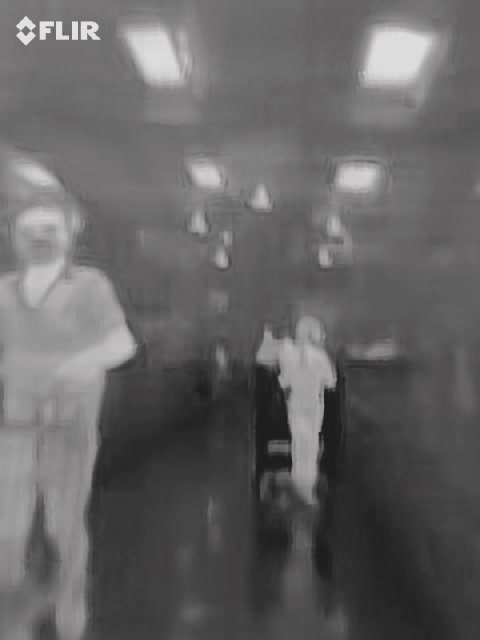head: (14, 191, 81, 272)
